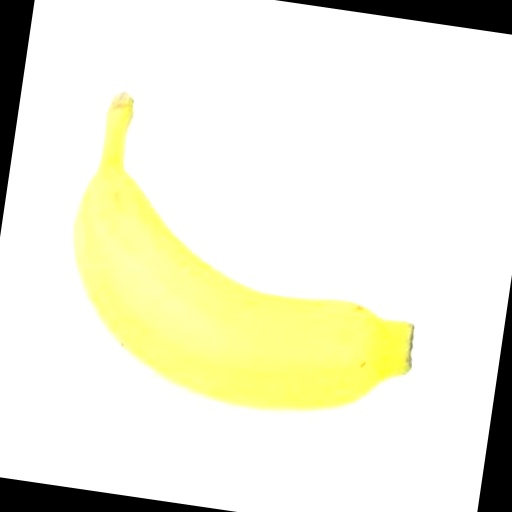fruit: (326, 188, 486, 512)
